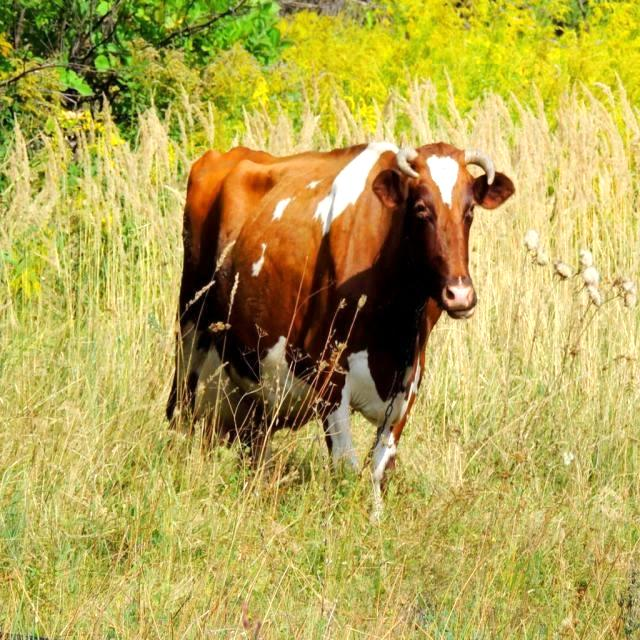COW: (168, 142, 514, 517)
